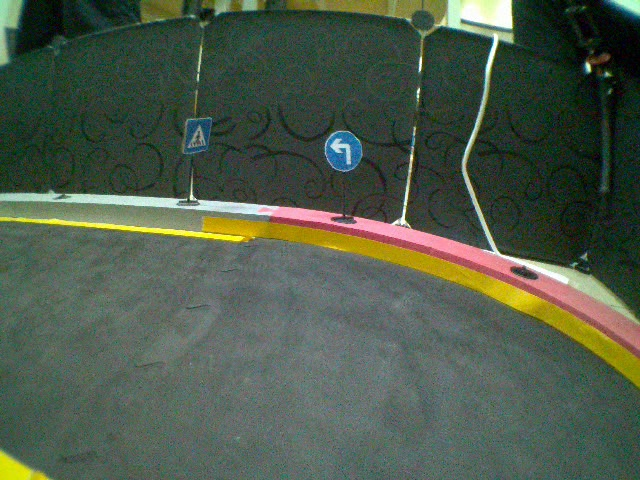crossing: (183, 118, 211, 156)
turn: (323, 130, 364, 173)
